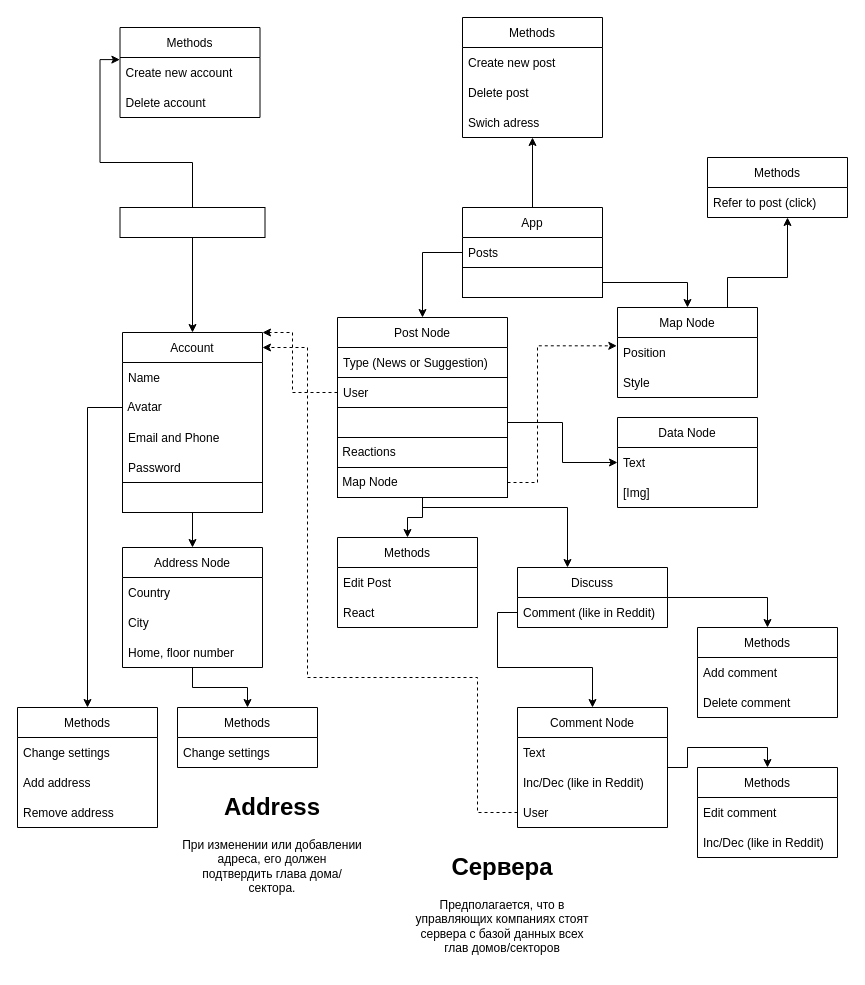
Image size: 865x985. Some labels were removed from this diagram. Here are the shapes that lost their labels. From the top down, the centre of each, then its label:
the point at 192,222: Registration
the point at 532,282: Map
the point at 422,422: Data
the point at 192,497: Addresses
